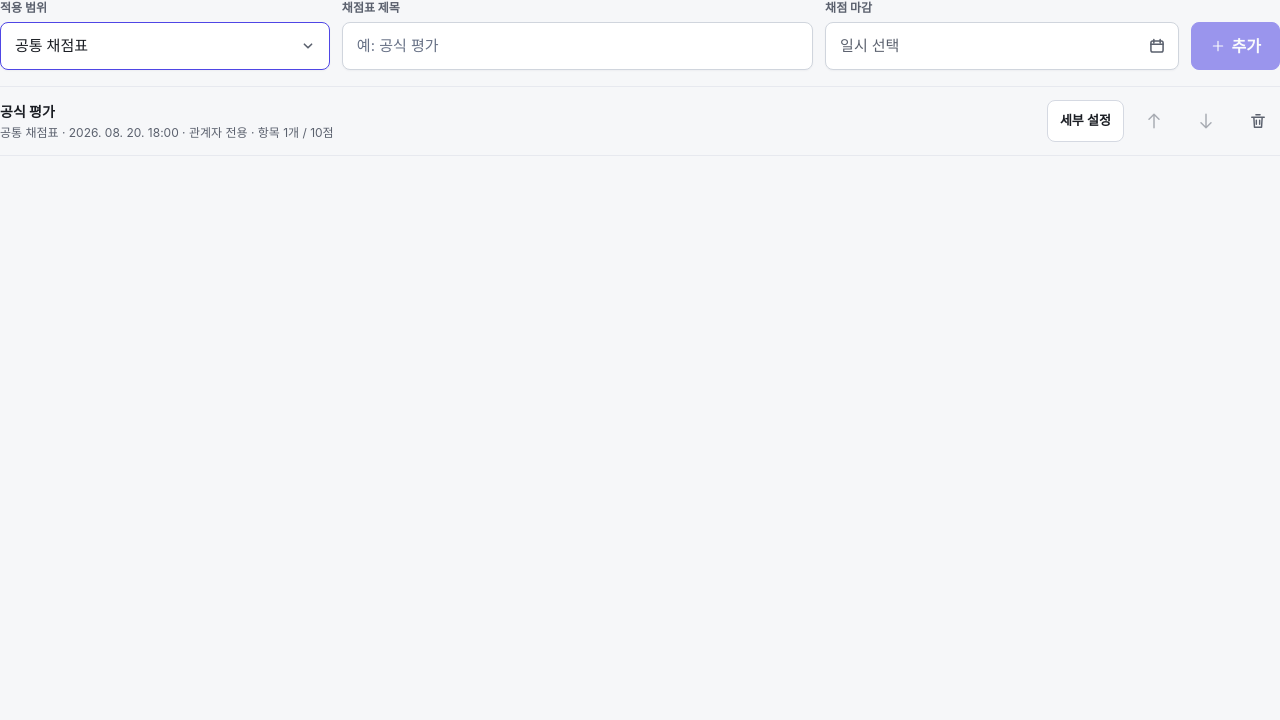
Test: RubricManager › 생성 화면과 같은 빠른 추가 행, 요약 목록, 모달 편집 흐름을 사용한다
Expected: the dropdown named "새 채점표 적용 범위" reads "공통 채점표", [0,22,330,70]
Expected: the text "공통 채점표 · 2026. 08. 20. 18:00 · 관계자 전용 · 항목 1개 / 10점" is shown, [0,125,334,142]
Click the button "세부 설정" at (1085, 121), box [1047,100,1124,142]
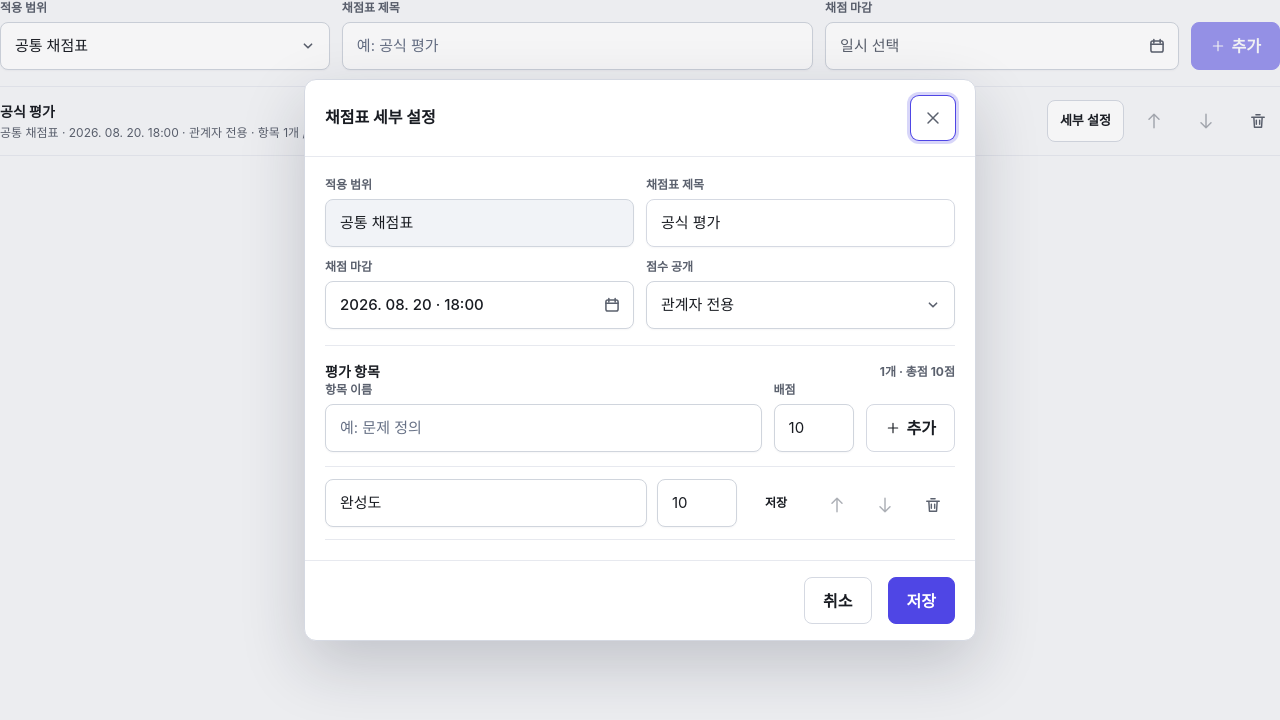
Now the heading "평가 항목" is shown, box [325,362,380,382]
